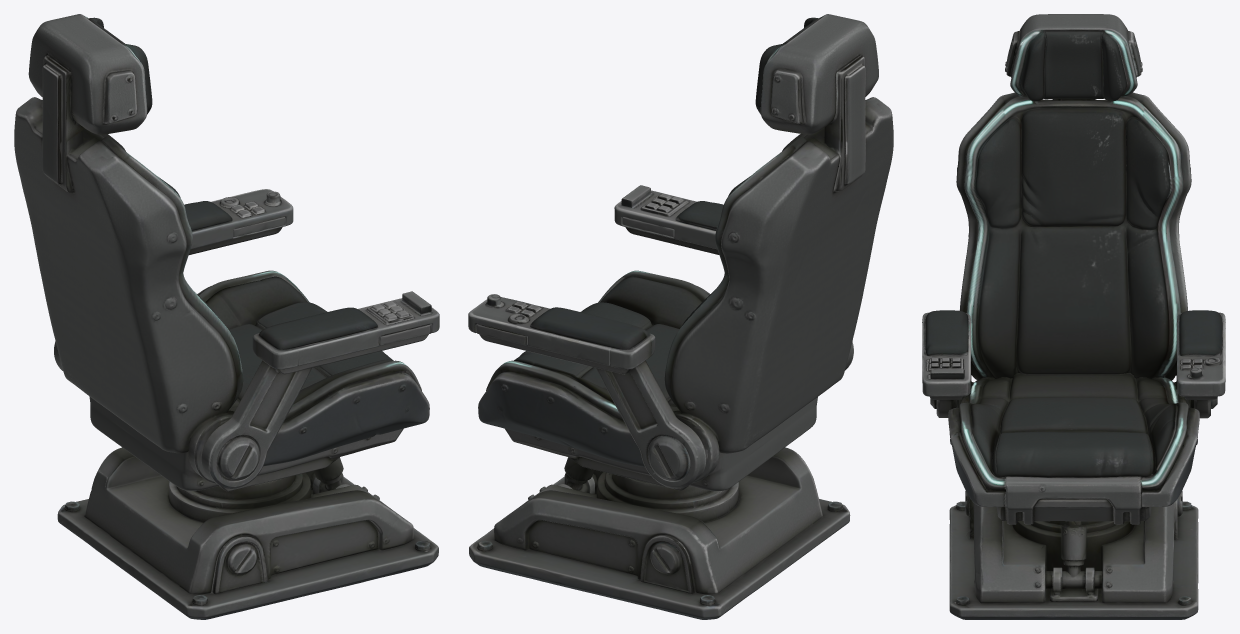
The model's file is pilot_seat.glb.
The picture shows the model from 3 angles, left to right: view 1: azimuth 30°, elevation 25°; view 2: azimuth 150°, elevation 25°; view 3: azimuth 270°, elevation 25°; orthographic projection. The views are drawn at different scales.
Parts seen in each view (by area): view 1: tripo_node_6454d14b-fc78-4124-a8a6-f49f4583ccc5; view 2: tripo_node_6454d14b-fc78-4124-a8a6-f49f4583ccc5; view 3: tripo_node_6454d14b-fc78-4124-a8a6-f49f4583ccc5.
Boxes of the visible parts, x1,y1,x2,y2 form: tripo_node_6454d14b-fc78-4124-a8a6-f49f4583ccc5: (14,14,439,619); tripo_node_6454d14b-fc78-4124-a8a6-f49f4583ccc5: (468,14,893,619); tripo_node_6454d14b-fc78-4124-a8a6-f49f4583ccc5: (922,14,1225,619).
Bounding box in the file's own units: 0.613 × 0.9803 × 0.5637.
Materials: 1 (1 with a texture image).
